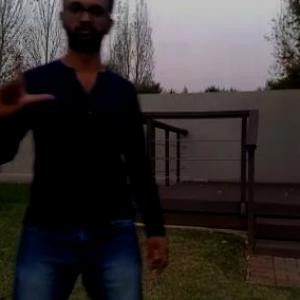land_hand: (0, 32, 64, 123)
